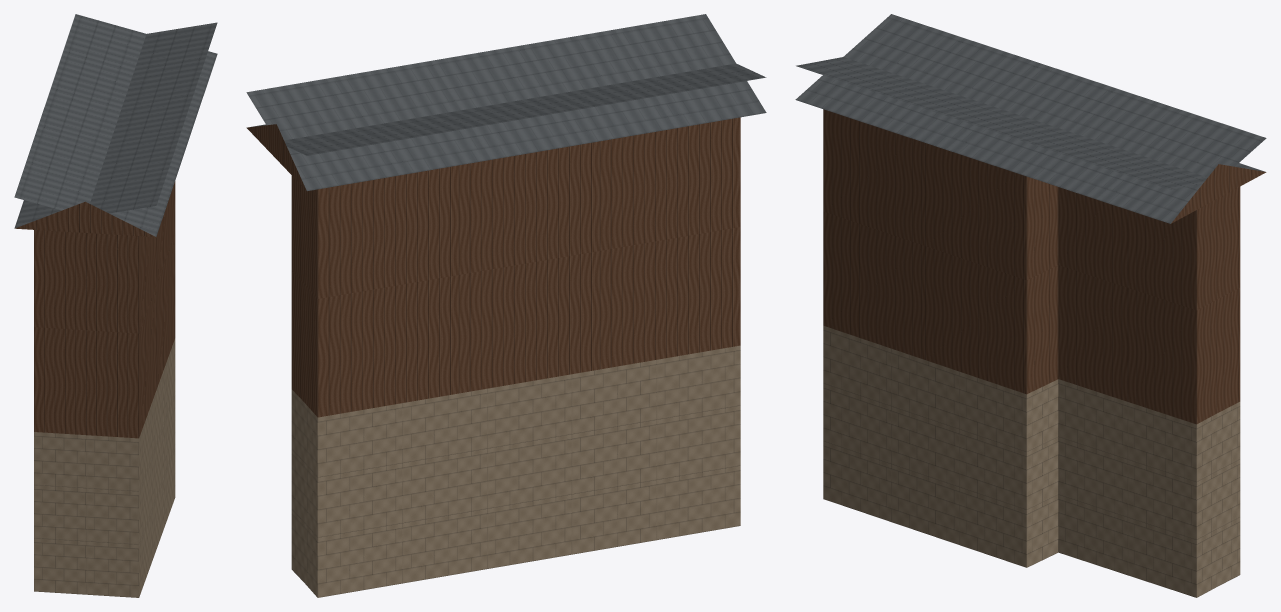
File: bld_c-19_18_524.gltf
3 renders of one model, left to right at view 1: azimuth 30°, elevation 25°; view 2: azimuth 150°, elevation 25°; view 3: azimuth 270°, elevation 25°, orthographic. The views are drawn at different scales.
Visible parts, largest first — view 1: bld_c-19_18_524; view 2: bld_c-19_18_524; view 3: bld_c-19_18_524.
Part boxes in pixels (x1,y1,x2,y2): bld_c-19_18_524: [14, 14, 217, 597]; bld_c-19_18_524: [246, 14, 766, 597]; bld_c-19_18_524: [795, 14, 1266, 597].
Bounding box in the file's own units: 11.1 × 12.8 × 12.56.
Materials: 4 (4 with a texture image).
